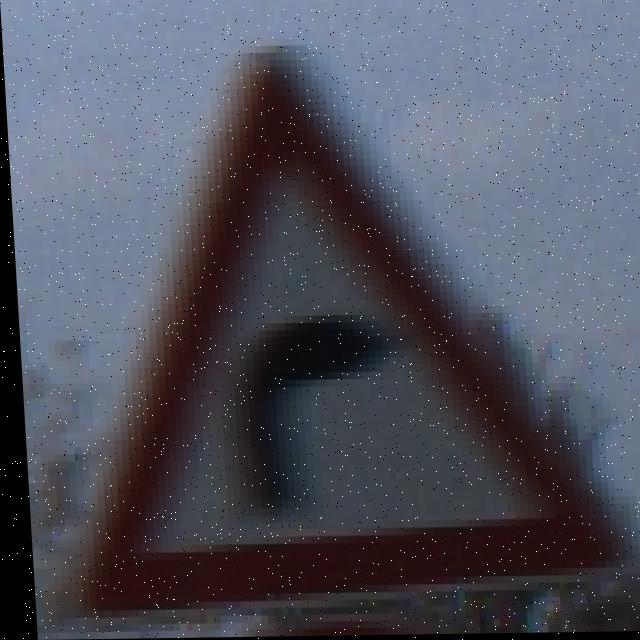right_turn: (7, 105, 617, 640)
